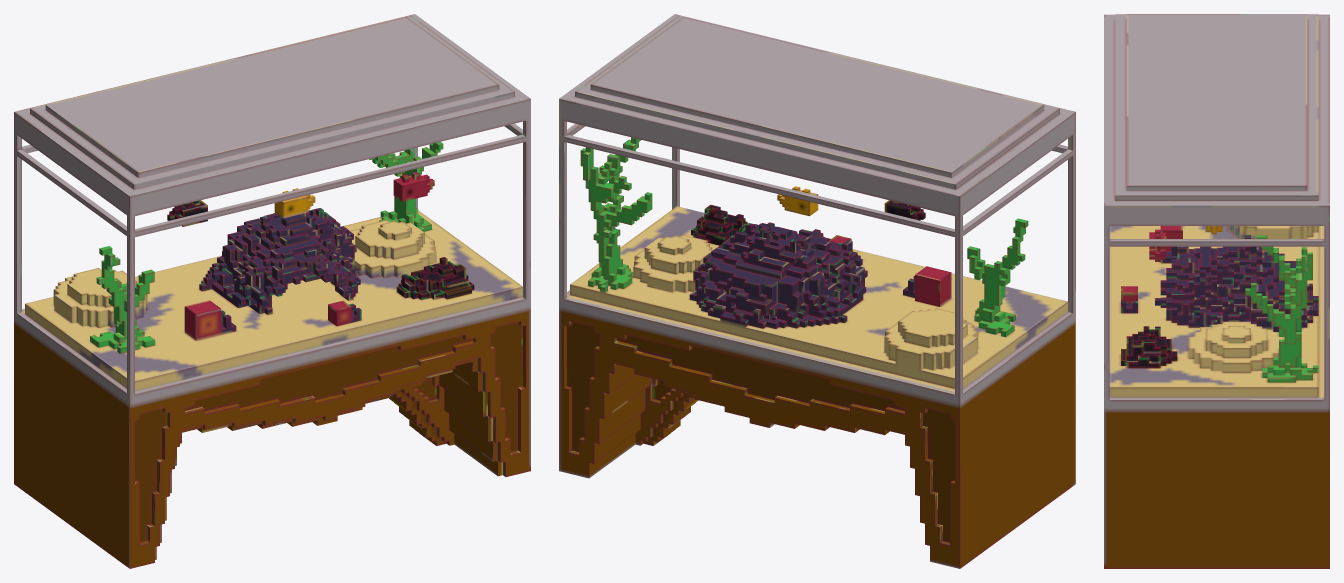
Rendered from Aquarium_1_Backup.obj.
3 renders of one model, left to right at view 1: azimuth 30°, elevation 25°; view 2: azimuth 150°, elevation 25°; view 3: azimuth 270°, elevation 25°, orthographic. The views are drawn at different scales.
Visible parts, largest first — view 1: Aquarium_1_Backup; view 2: Aquarium_1_Backup; view 3: Aquarium_1_Backup.
Part boxes in pixels (x1,y1,x2,y2): Aquarium_1_Backup: [14, 14, 530, 568]; Aquarium_1_Backup: [559, 14, 1075, 568]; Aquarium_1_Backup: [1104, 14, 1329, 568].
Bounding box in the file's own units: 8 × 7.3 × 4.
1 material, 1 textured.
